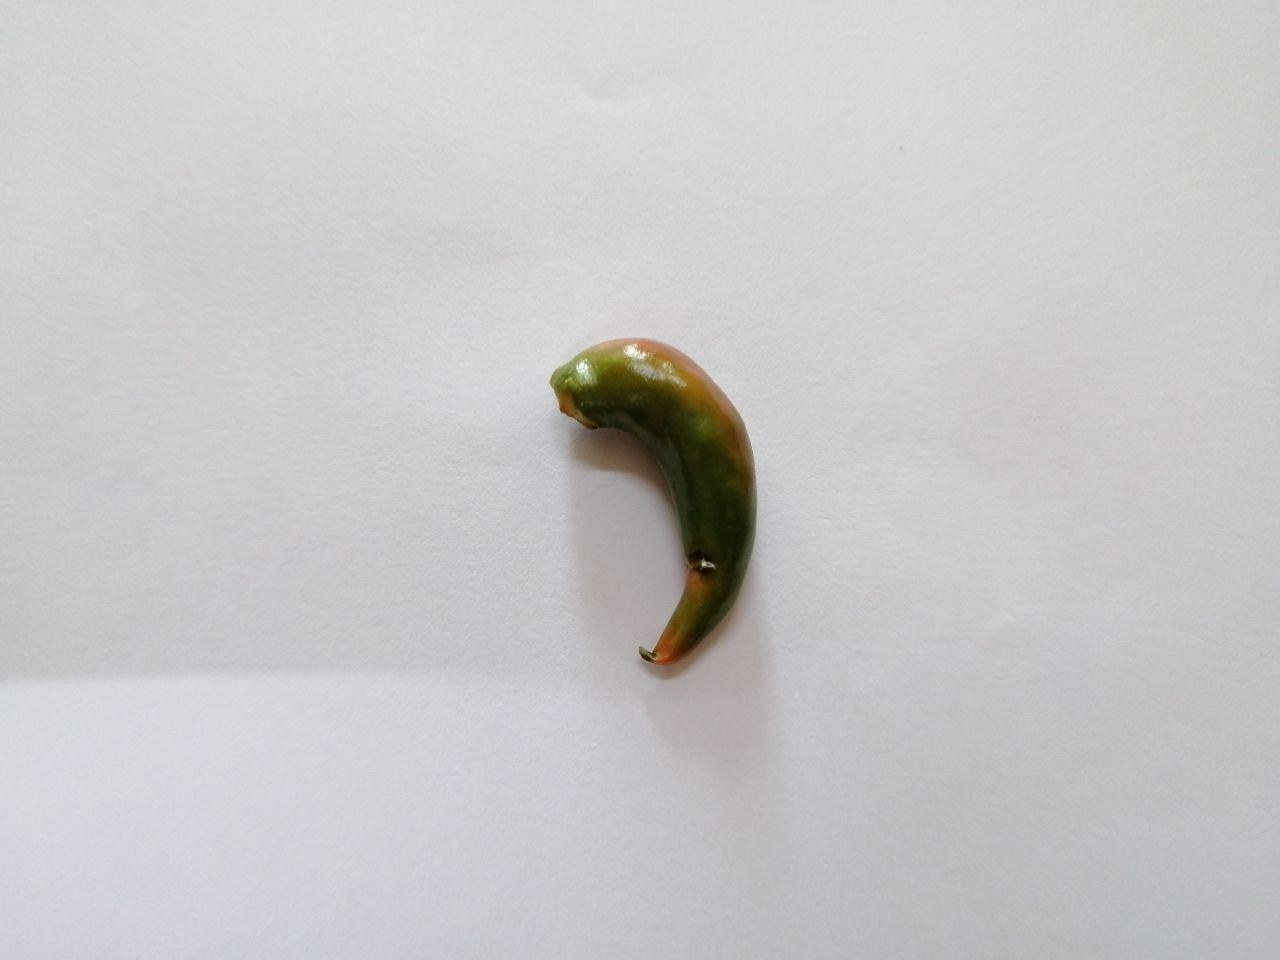lada kuning: (537, 318, 775, 692)
